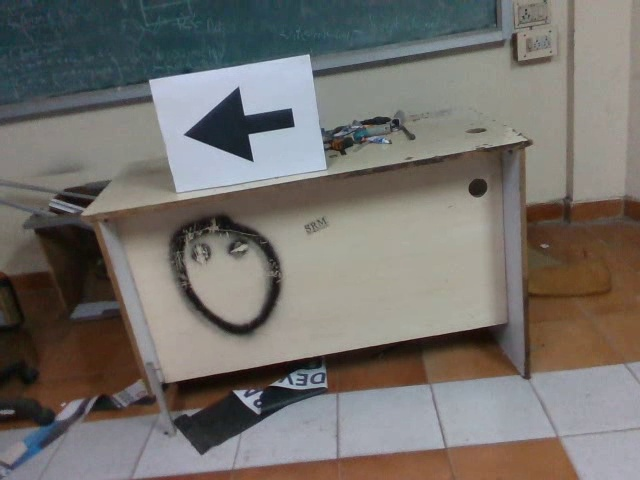Left: (179, 84, 305, 165)
